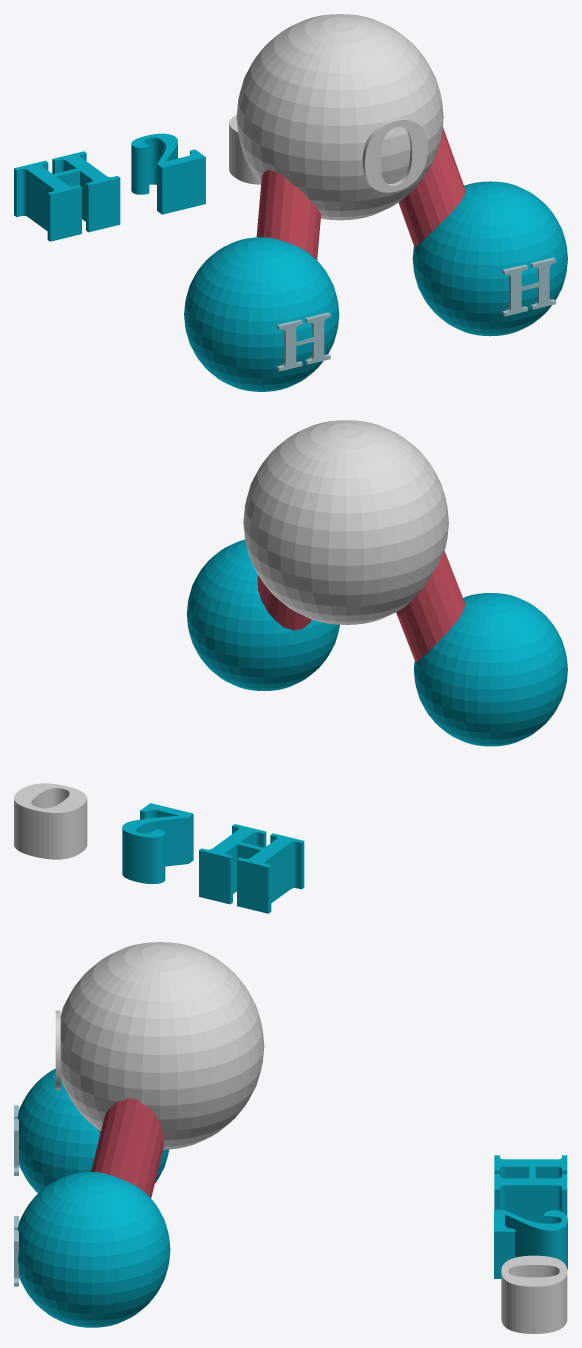
Rendered from H20 Molecule.glb.
The picture shows the model from 3 angles, top to bottom: view 1: azimuth 30°, elevation 25°; view 2: azimuth 150°, elevation 25°; view 3: azimuth 270°, elevation 25°; orthographic projection.
Parts seen in each view (by area): view 1: Mesh_Mesh_head_geo.001_lambert2SG.001; view 2: Mesh_Mesh_head_geo.001_lambert2SG.001; view 3: Mesh_Mesh_head_geo.001_lambert2SG.001.
Part boxes in pixels (left/top/right/bottom): Mesh_Mesh_head_geo.001_lambert2SG.001: left=14, top=14, right=567, bottom=391; Mesh_Mesh_head_geo.001_lambert2SG.001: left=14, top=420, right=567, bottom=913; Mesh_Mesh_head_geo.001_lambert2SG.001: left=14, top=942, right=567, bottom=1333.
Size of the model in its own units: 40.5 by 33 by 53.11.
